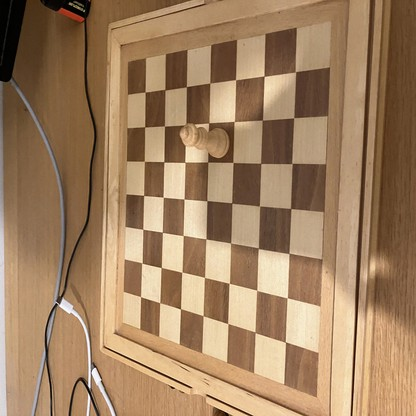queen_white: (181, 125, 229, 159)
